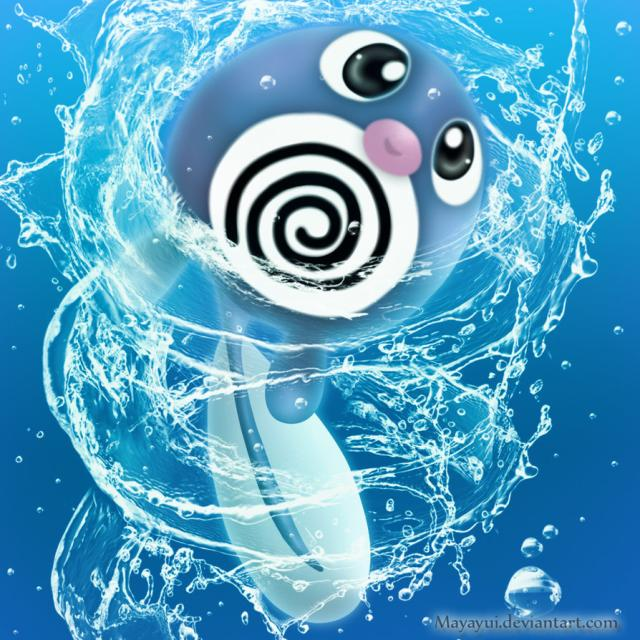Poliwag: (163, 22, 488, 380)
